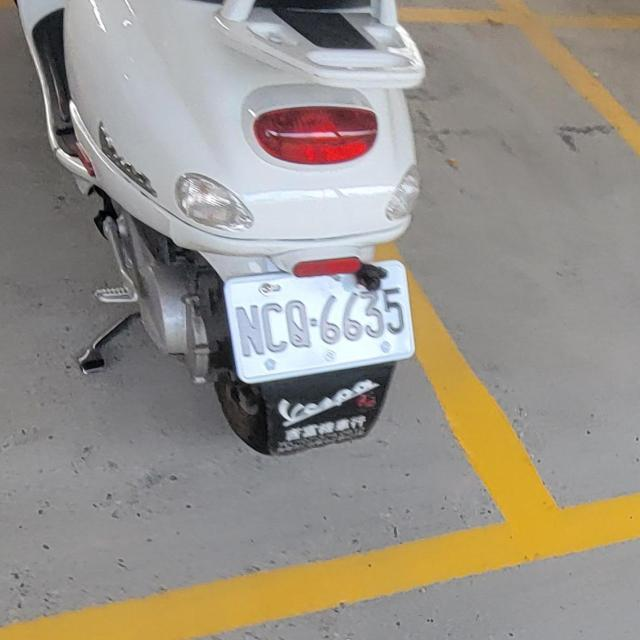W: (216, 255, 424, 389)
